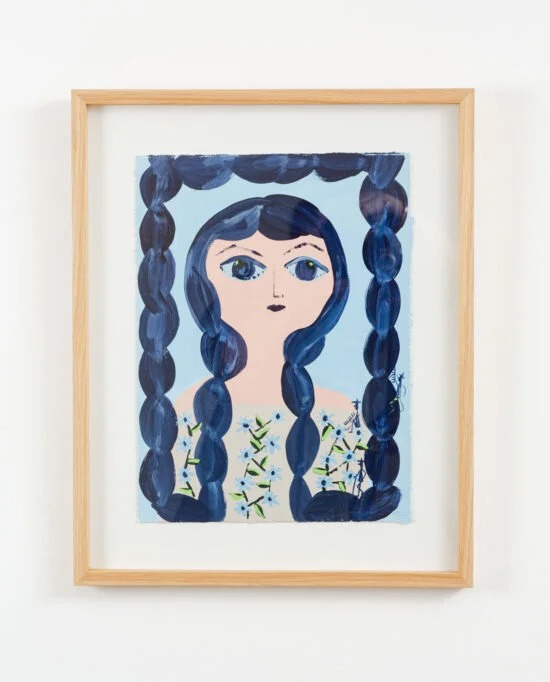painting: (133, 151, 412, 525)
